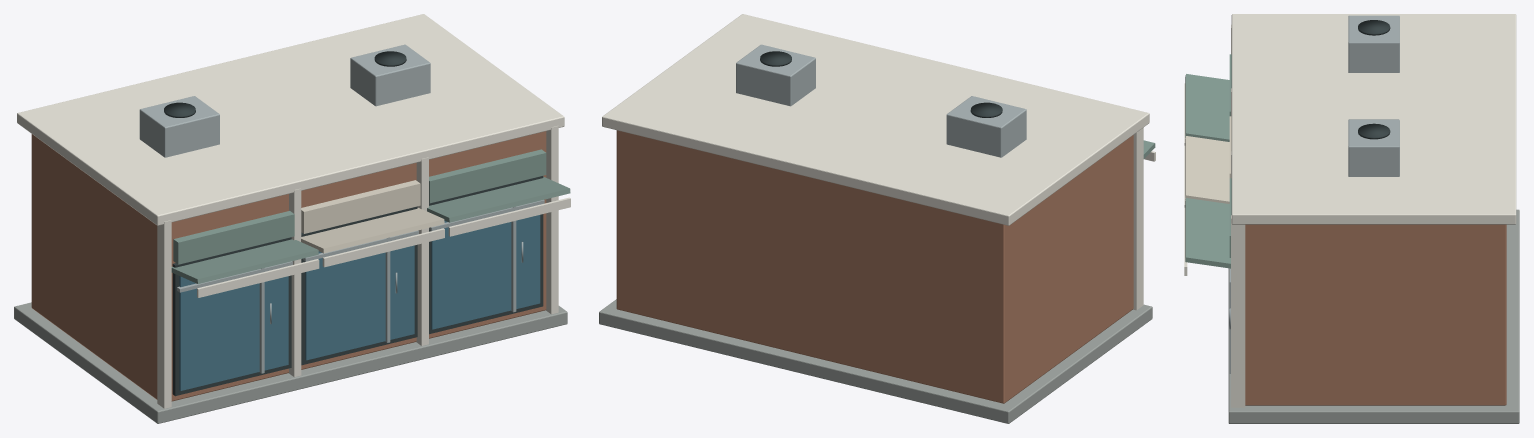
Rendered from site-shopfront.glb.
3 renders of one model, left to right at view 1: azimuth 30°, elevation 25°; view 2: azimuth 150°, elevation 25°; view 3: azimuth 270°, elevation 25°, orthographic.
Visible parts, largest first — view 1: site-shopfront_Warm_white_precast, site-shopfront_Terracotta_brick, site-shopfront_Blue_reflective_glazing, site-shopfront_Sage_ceramic_cladding, site-shopfront_Honed_grey_sandstone, site-shopfront_Galvanized_brushed_steel, site-shopfront_Anthracite_anodized_metal, site-shopfront_Limestone_render; view 2: site-shopfront_Terracotta_brick, site-shopfront_Warm_white_precast, site-shopfront_Honed_grey_sandstone, site-shopfront_Galvanized_brushed_steel, site-shopfront_Anthracite_anodized_metal; view 3: site-shopfront_Warm_white_precast, site-shopfront_Terracotta_brick, site-shopfront_Honed_grey_sandstone, site-shopfront_Sage_ceramic_cladding, site-shopfront_Galvanized_brushed_steel, site-shopfront_Limestone_render, site-shopfront_Anthracite_anodized_metal.
Part boxes in pixels (bbox=[...]): site-shopfront_Warm_white_precast: bbox=[17, 14, 570, 408]; site-shopfront_Terracotta_brick: bbox=[31, 131, 546, 401]; site-shopfront_Blue_reflective_glazing: bbox=[179, 215, 540, 390]; site-shopfront_Sage_ceramic_cladding: bbox=[171, 149, 570, 283]; site-shopfront_Honed_grey_sandstone: bbox=[14, 302, 567, 423]; site-shopfront_Galvanized_brushed_steel: bbox=[139, 44, 544, 373]; site-shopfront_Anthracite_anodized_metal: bbox=[164, 51, 543, 396]; site-shopfront_Limestone_render: bbox=[301, 180, 444, 253]; site-shopfront_Terracotta_brick: bbox=[616, 130, 1133, 403]; site-shopfront_Warm_white_precast: bbox=[602, 14, 1155, 310]; site-shopfront_Honed_grey_sandstone: bbox=[599, 299, 1152, 423]; site-shopfront_Galvanized_brushed_steel: bbox=[736, 44, 1026, 157]; site-shopfront_Anthracite_anodized_metal: bbox=[760, 51, 1002, 117]; site-shopfront_Warm_white_precast: bbox=[1184, 14, 1516, 407]; site-shopfront_Terracotta_brick: bbox=[1245, 224, 1506, 405]; site-shopfront_Honed_grey_sandstone: bbox=[1228, 209, 1519, 423]; site-shopfront_Sage_ceramic_cladding: bbox=[1185, 54, 1231, 268]; site-shopfront_Galvanized_brushed_steel: bbox=[1229, 15, 1399, 373]; site-shopfront_Limestone_render: bbox=[1185, 116, 1231, 203]; site-shopfront_Anthracite_anodized_metal: bbox=[1358, 20, 1390, 139].
Size of the model in its own units: 7.4 by 4.13 by 5.18.
